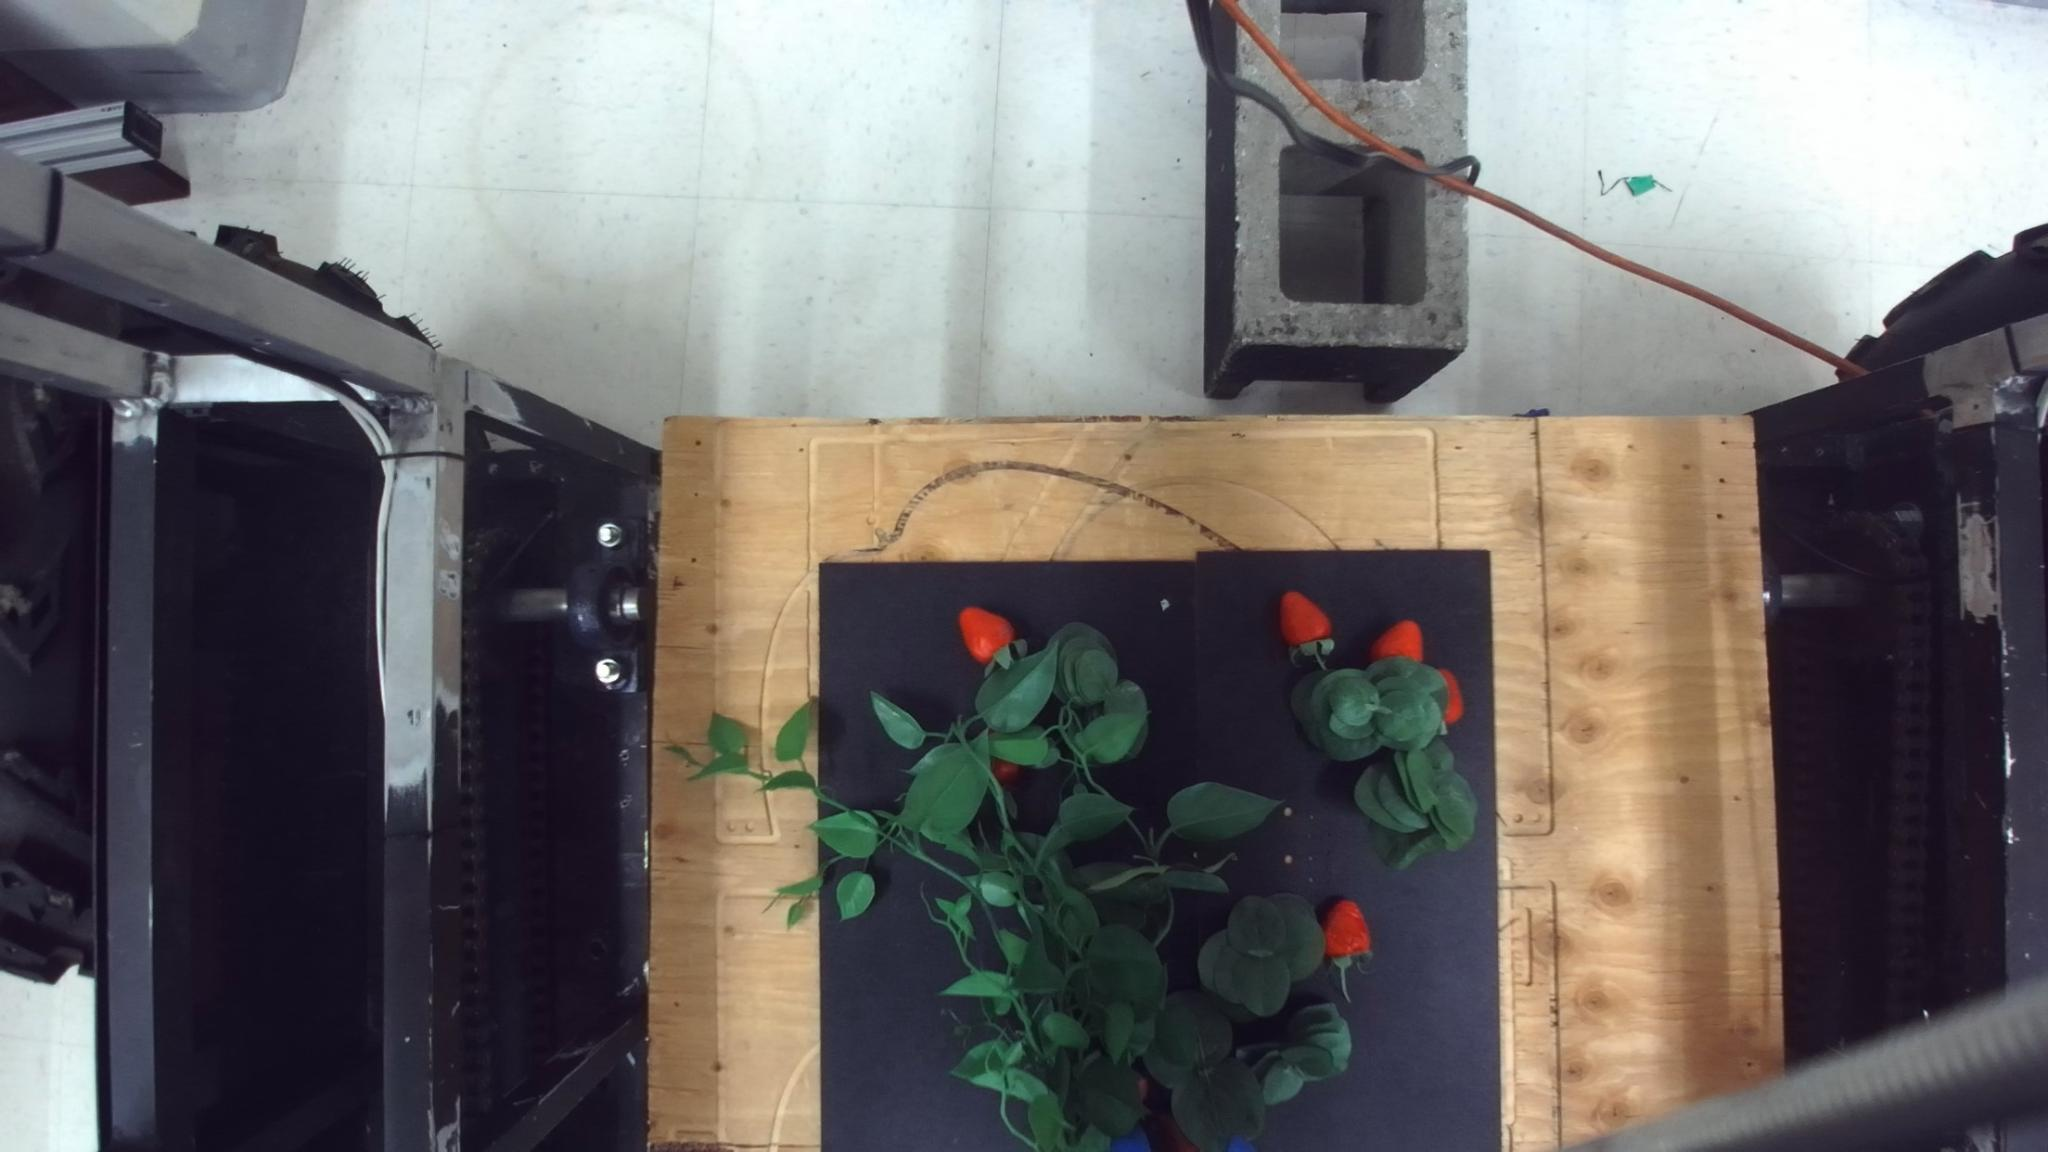strawberry: (1277, 588, 1335, 654), (1318, 896, 1371, 965), (956, 605, 1014, 664), (1369, 617, 1423, 664), (1432, 667, 1463, 726), (989, 755, 1021, 788)
